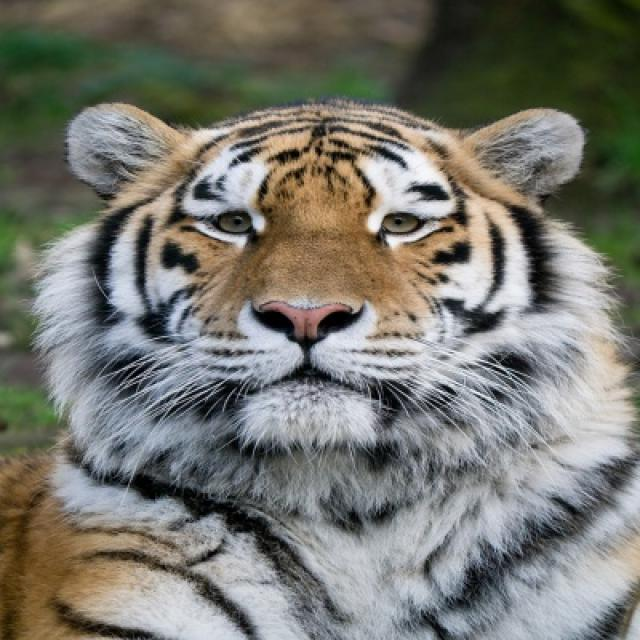Tiger: (0, 100, 637, 633)
